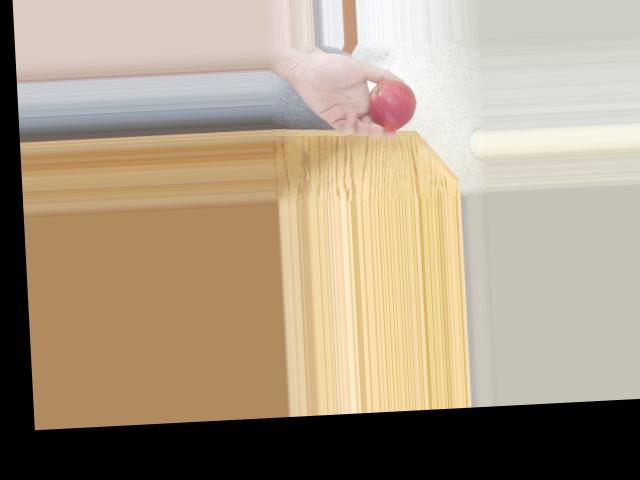apple: (365, 78, 420, 130)
